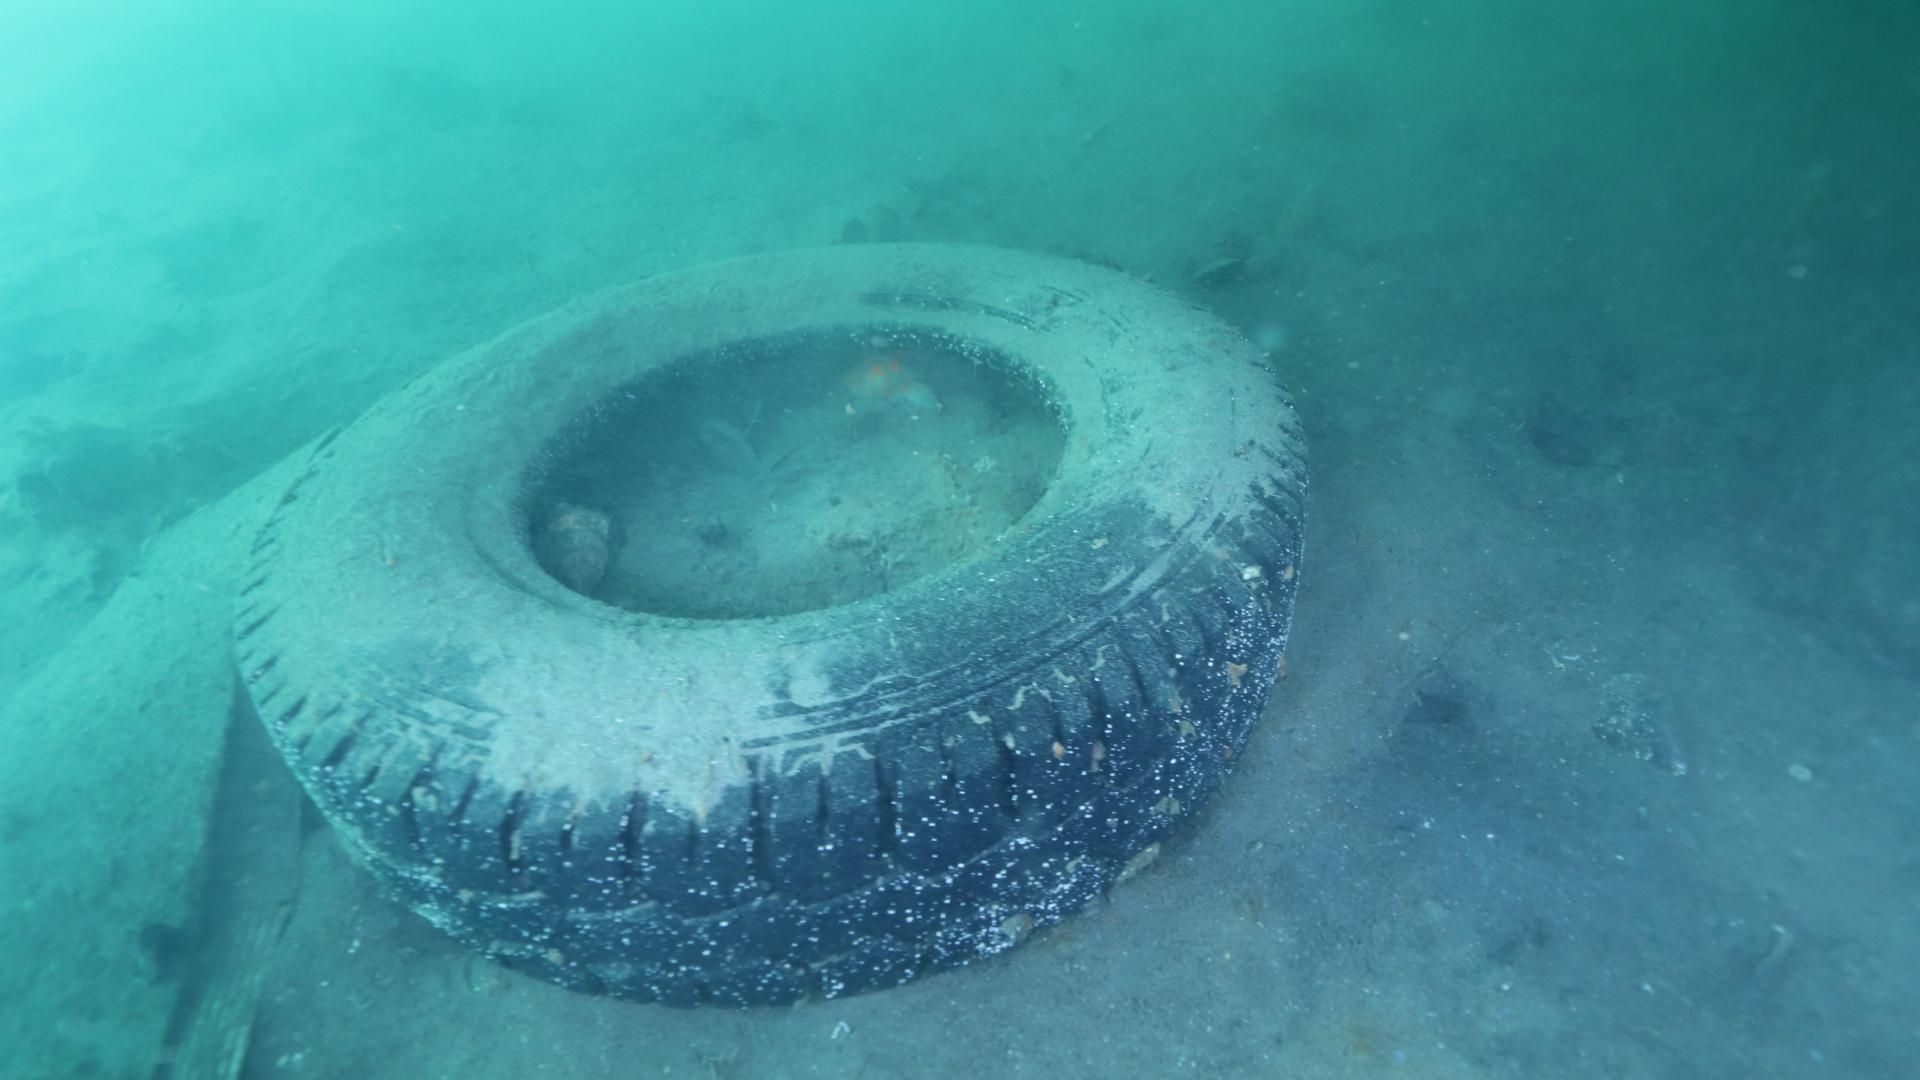tire: (233, 237, 1311, 1007)
